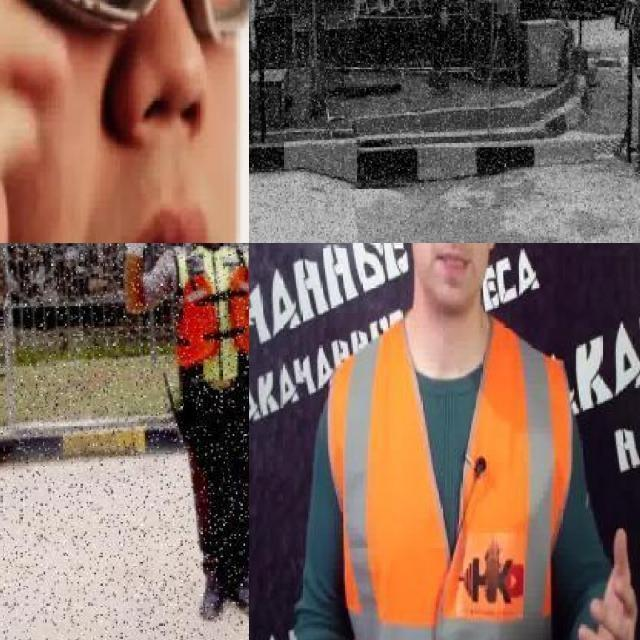apron: (123, 243, 151, 261)
